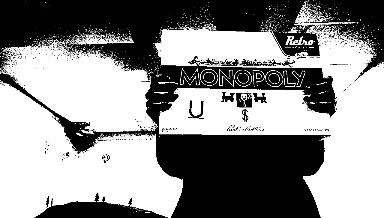U: (189, 98, 204, 115)
